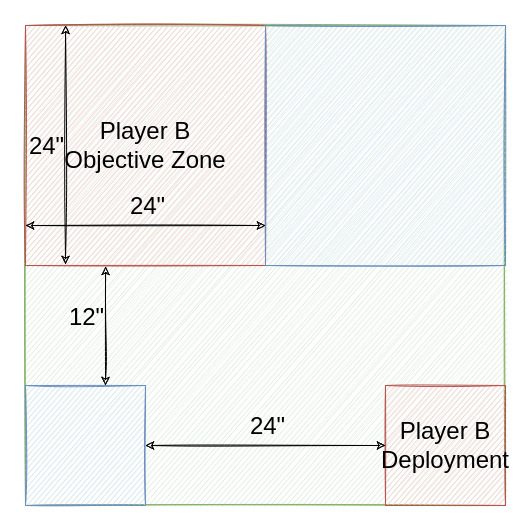
This 526x523 diagram has some shape labels left out. The shapes that lost their labels are listed below. From the top down, each one's centre as x and y in pixels, then its label:
At point (385, 145): "Player A Objective Zone".
At point (85, 445): "Player A Deployment".
